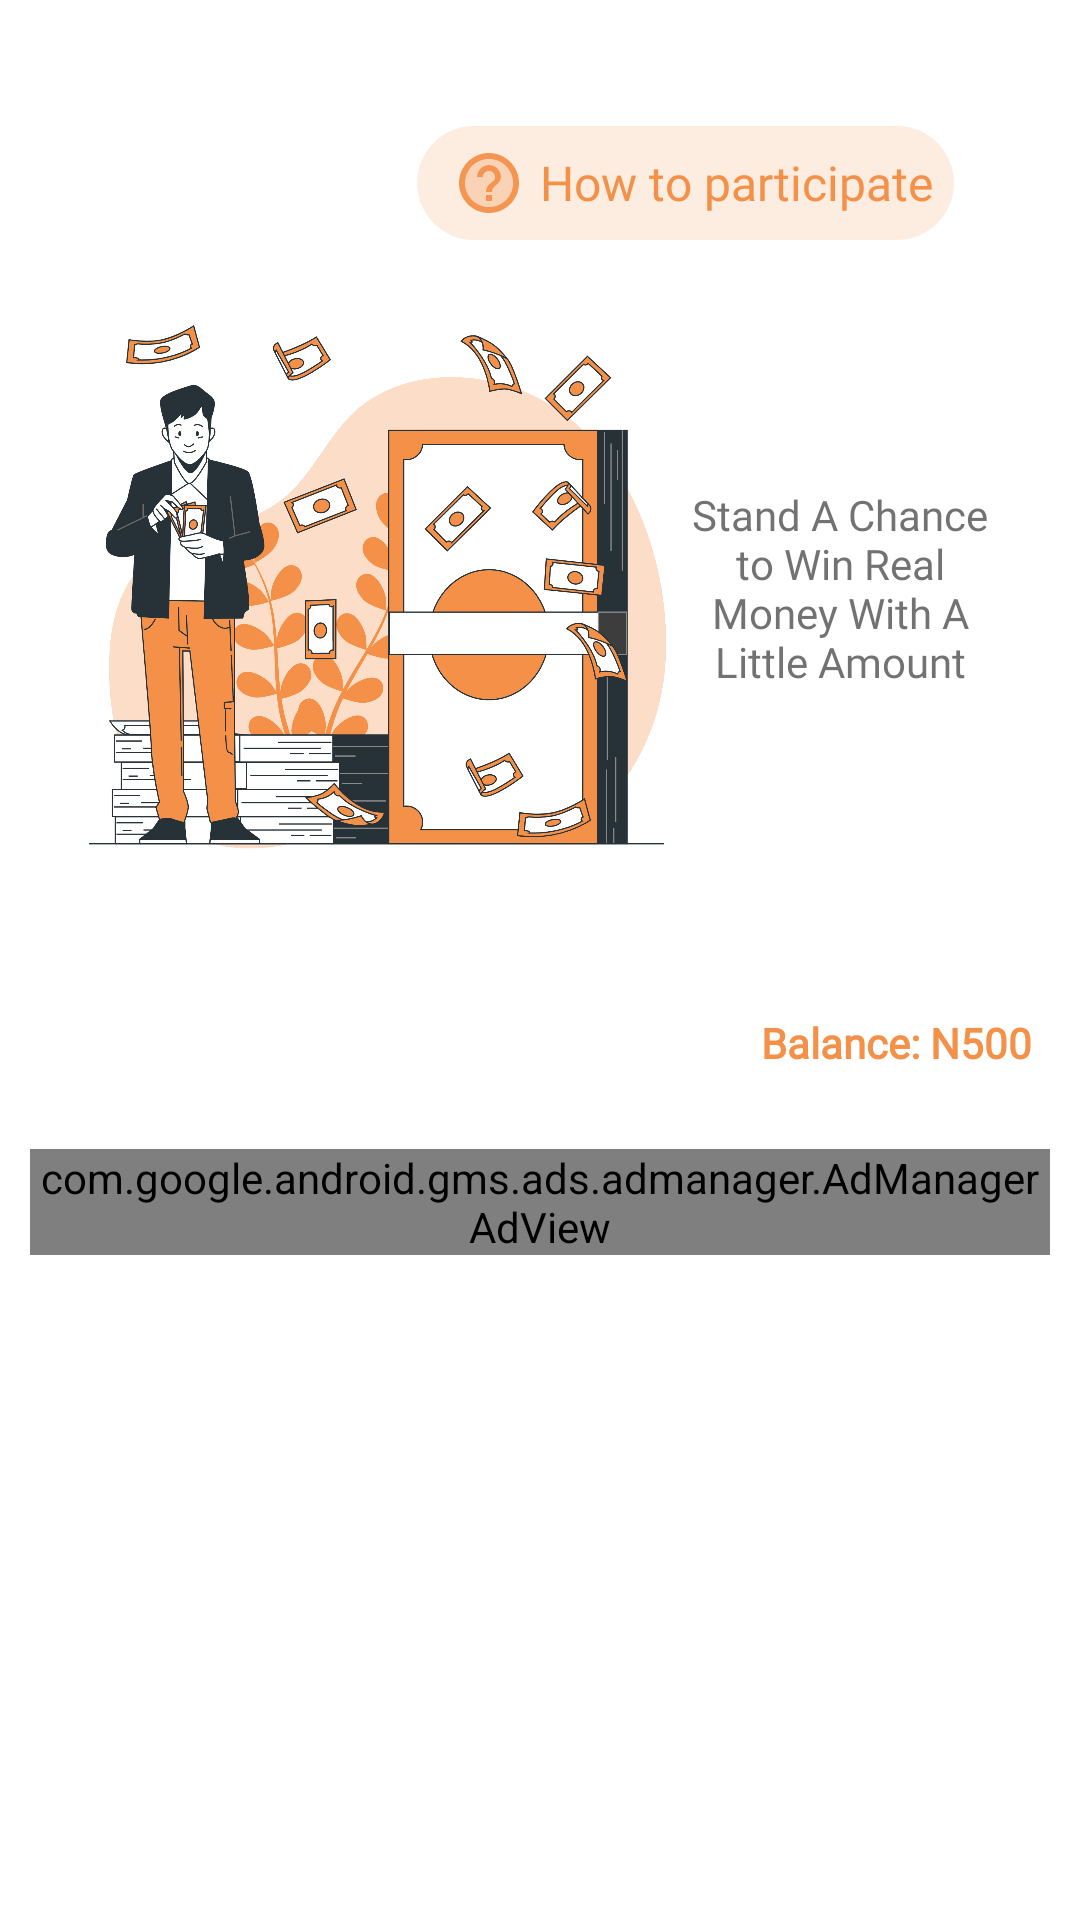

Where icons sit on this 1080 x 1920 app screen, as (x1, y1, x2, y2):
help: (459, 153, 519, 213)
